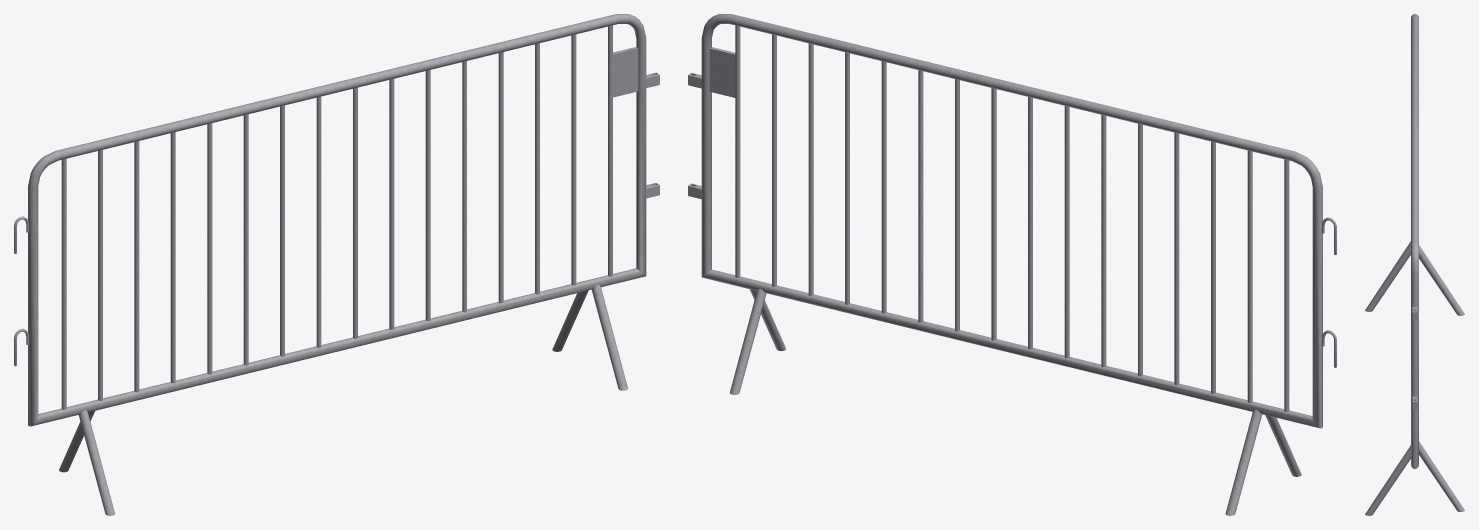
File: BarrierCrowd01.FBX
The picture shows the model from 3 angles, left to right: view 1: azimuth 30°, elevation 25°; view 2: azimuth 150°, elevation 25°; view 3: azimuth 270°, elevation 25°; orthographic projection. The views are drawn at different scales.
Visible parts, largest first — view 1: BarrierCrowd01; view 2: BarrierCrowd01; view 3: BarrierCrowd01.
Boxes of the visible parts, x1,y1,x2,y2 form: BarrierCrowd01: (14, 14, 659, 515); BarrierCrowd01: (688, 14, 1336, 515); BarrierCrowd01: (1365, 14, 1464, 515).
Bounding box in the file's own units: 224 × 115 × 36.89.
